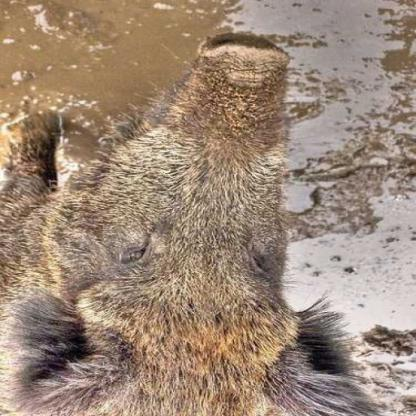boar: (0, 25, 400, 416)
